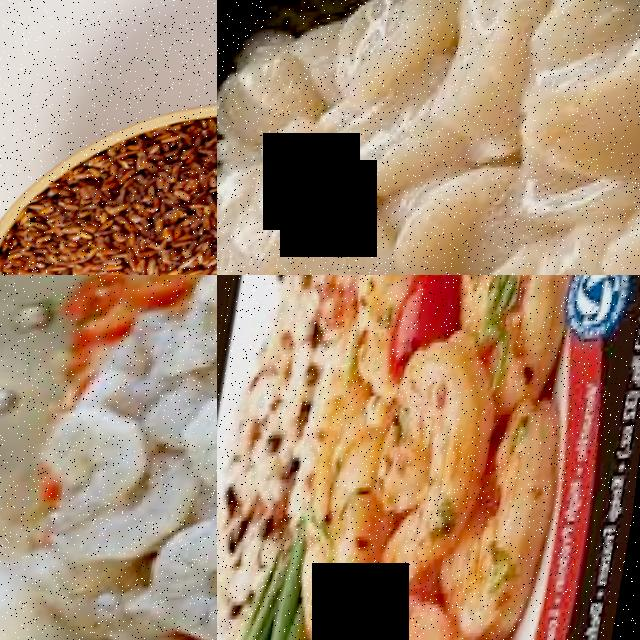red rice: (0, 113, 217, 275)
sea scallops: (506, 28, 640, 237), (217, 46, 323, 154), (270, 209, 418, 275)
spinach: (37, 404, 157, 515), (144, 515, 217, 640), (180, 376, 217, 515)
